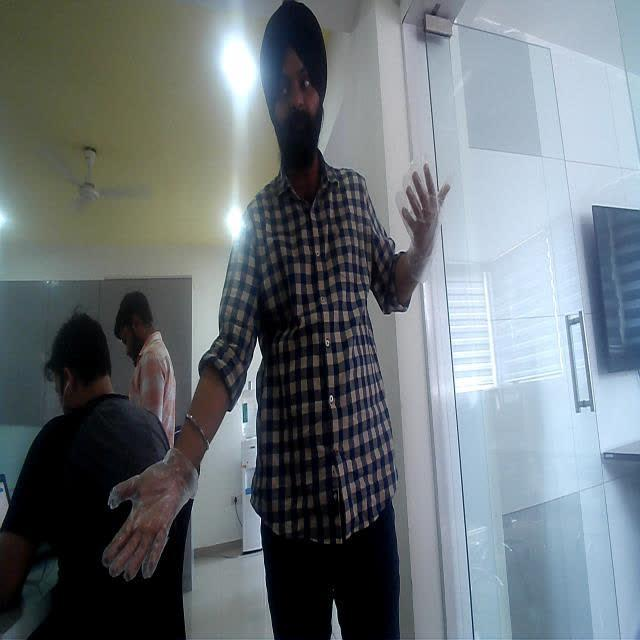with_gloves: (96, 440, 197, 612), (380, 138, 462, 248)
